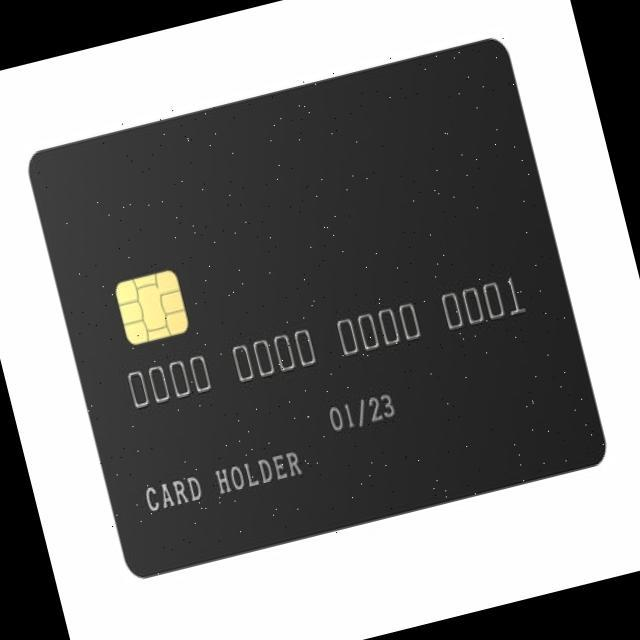payment_card: (26, 35, 607, 578)
